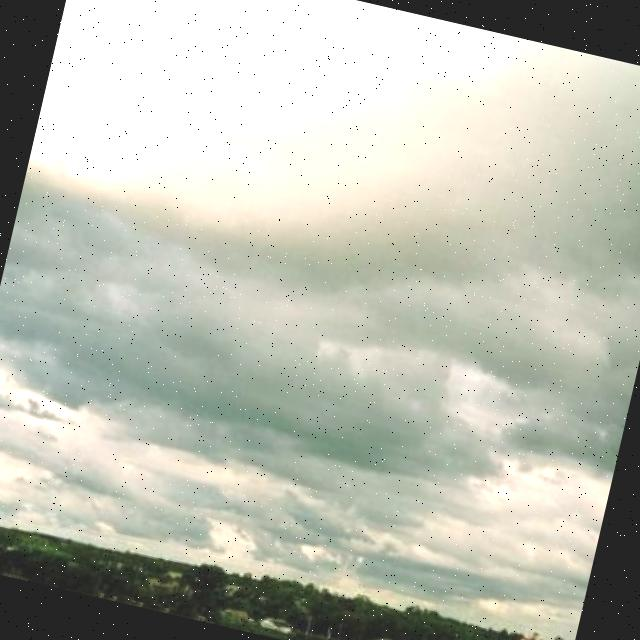Sc: (1, 1, 640, 564)
